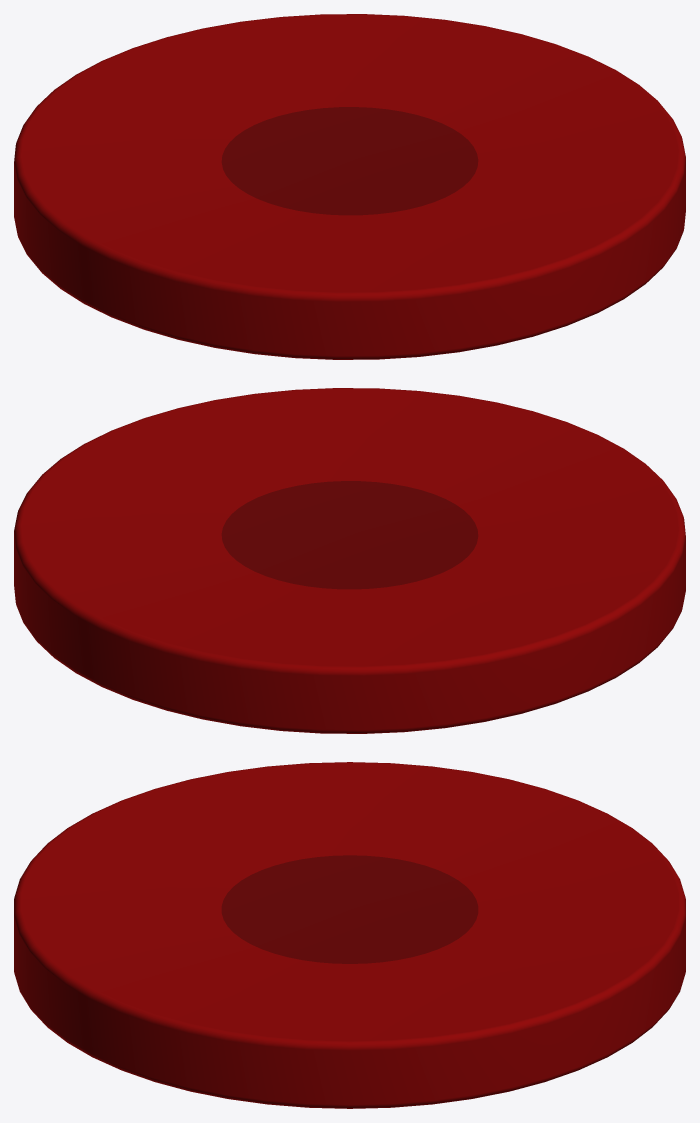
3 renders of one model, top to bottom at view 1: azimuth 30°, elevation 25°; view 2: azimuth 150°, elevation 25°; view 3: azimuth 270°, elevation 25°, orthographic.
Visible parts, largest first — view 1: pCylinder1; view 2: pCylinder1; view 3: pCylinder1.
Boxes of the visible parts, bbox=[...] form: pCylinder1: bbox=[14, 14, 685, 359]; pCylinder1: bbox=[14, 388, 685, 733]; pCylinder1: bbox=[14, 762, 685, 1108].
Bounding box in the file's own units: 20 × 2.21 × 19.96.
